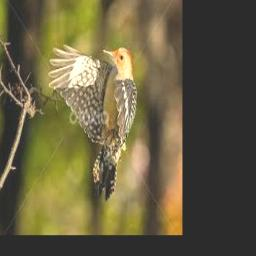Woodpecker: (48, 44, 138, 200)
